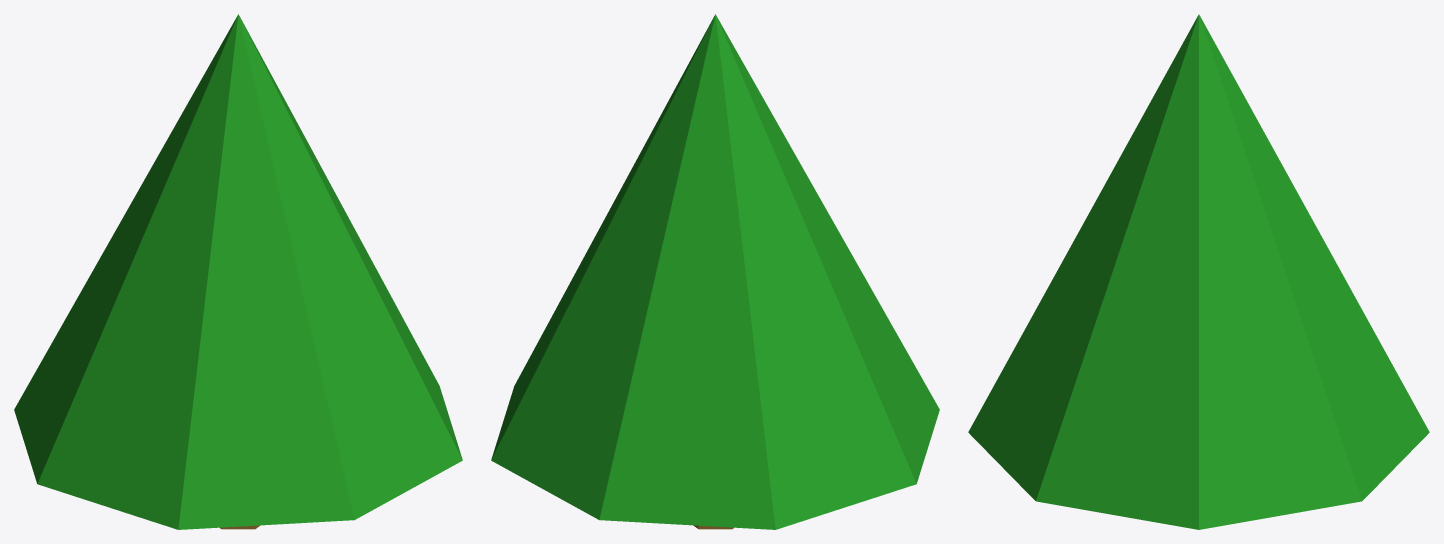
File: low-poly-tree.glb
The picture shows the model from 3 angles, left to right: view 1: azimuth 30°, elevation 25°; view 2: azimuth 150°, elevation 25°; view 3: azimuth 270°, elevation 25°; orthographic projection.
Parts seen in each view (by area): view 1: Leaves; view 2: Leaves; view 3: Leaves.
Boxes of the visible parts, x1=… form: Leaves: x1=14, y1=14, x2=462, y2=529; Leaves: x1=491, y1=14, x2=939, y2=529; Leaves: x1=968, y1=14, x2=1429, y2=529.
Size of the model in its own units: 3.01 by 3.59 by 3.01.
